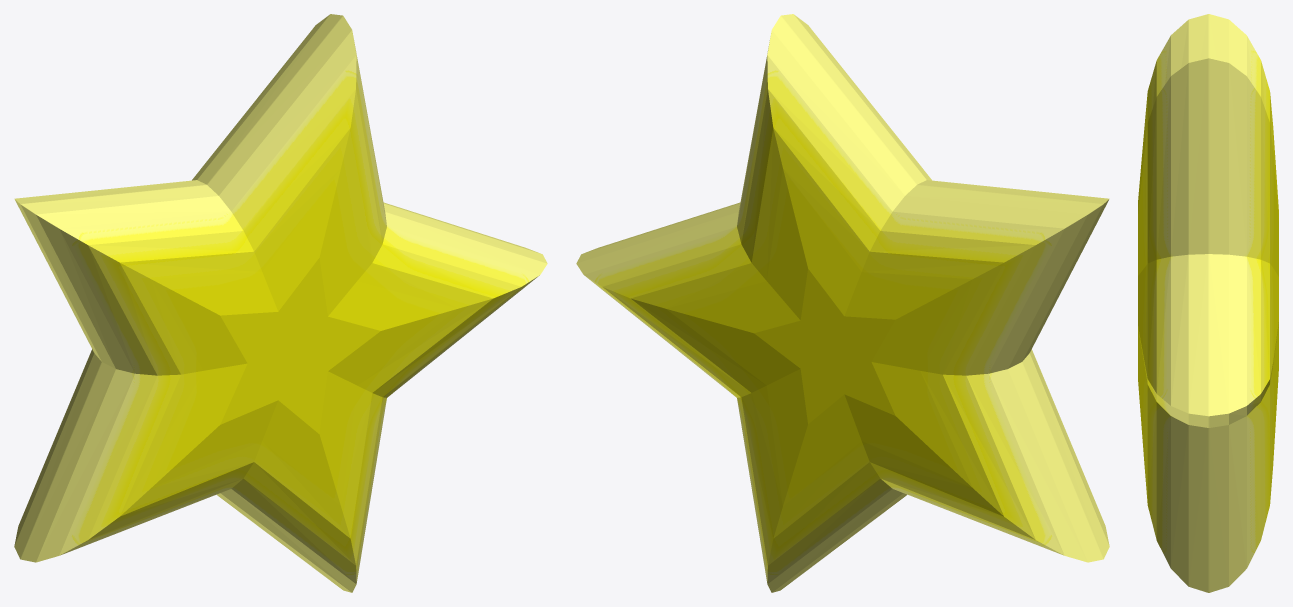
Rendered from fisiostar3.fbx.
The picture shows the model from 3 angles, left to right: view 1: azimuth 30°, elevation 25°; view 2: azimuth 150°, elevation 25°; view 3: azimuth 270°, elevation 25°; orthographic projection. The views are drawn at different scales.
Parts seen in each view (by area): view 1: Extrude_NURBS_2; view 2: Extrude_NURBS_2; view 3: Extrude_NURBS_2.
Boxes of the visible parts, x1,y1,x2,y2 form: Extrude_NURBS_2: [14, 14, 547, 592]; Extrude_NURBS_2: [576, 14, 1109, 592]; Extrude_NURBS_2: [1138, 14, 1278, 592].
Bounding box in the file's own units: 615 × 647 × 155.
